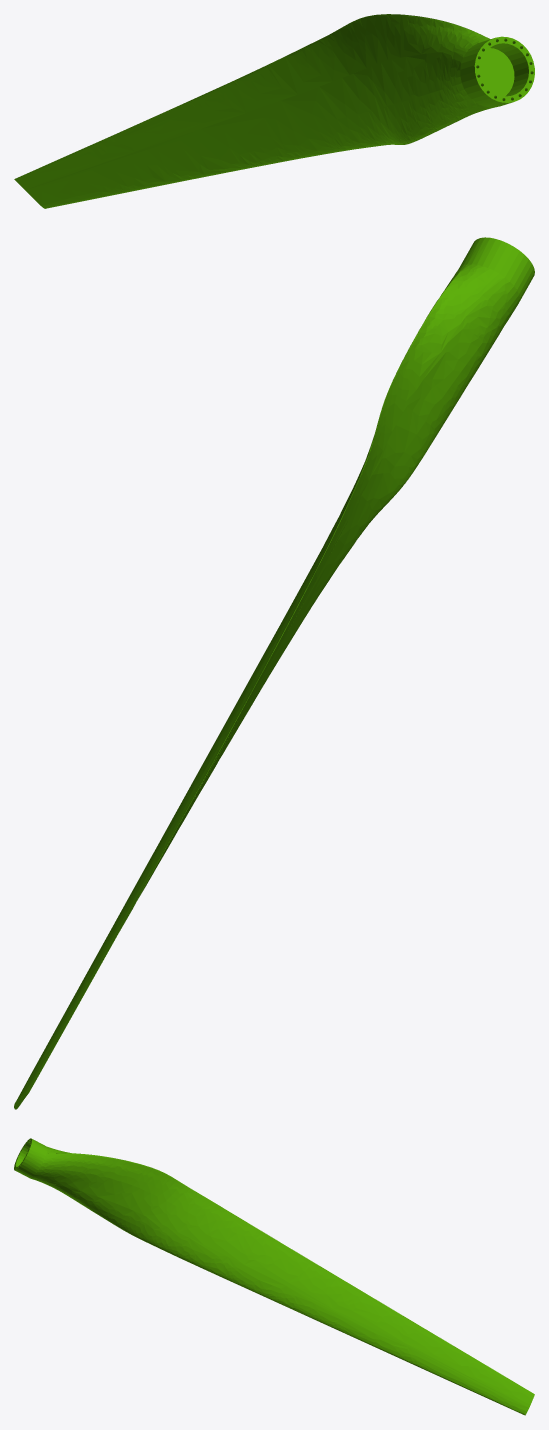
File: turbin_blade.dae
3 views of the same model, one above another, from view 1: azimuth 30°, elevation 25°; view 2: azimuth 150°, elevation 25°; view 3: azimuth 270°, elevation 25° (orthographic). The views are drawn at different scales.
Parts seen in each view (by area): view 1: node0; view 2: node0; view 3: node0.
Part boxes in pixels (x1,y1,x2,y2): node0: (14, 14, 534, 208); node0: (14, 237, 534, 1109); node0: (14, 1138, 534, 1415).
Bounding box in the file's own units: 0.1999 × 2.88 × 1.67.
